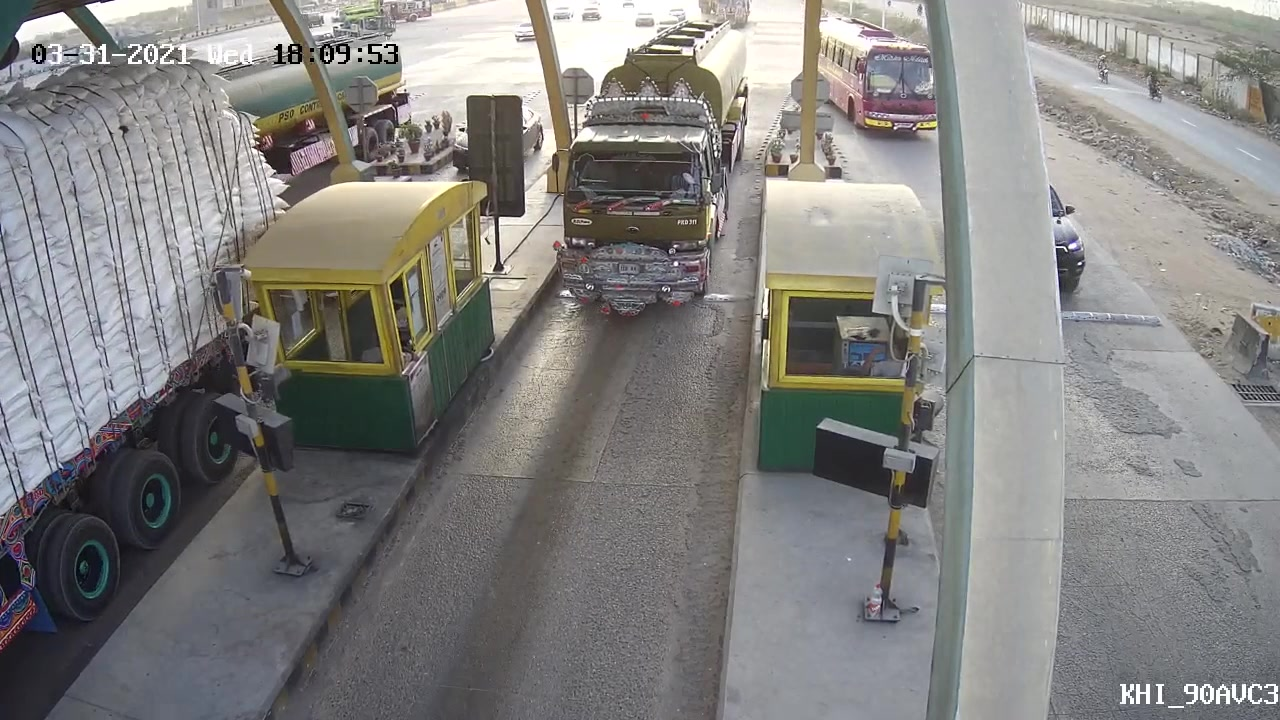F6: (540, 82, 745, 325)
